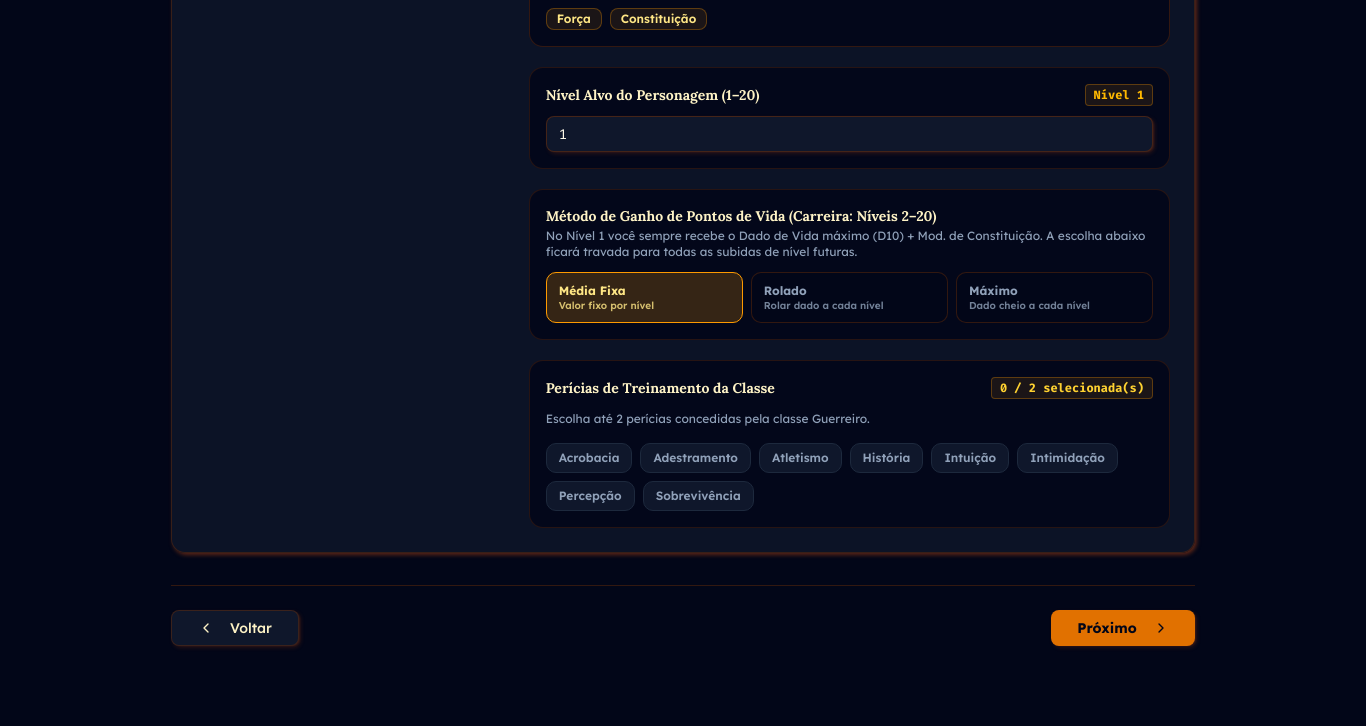
Test: TP-01: 6-Step Character Creation Wizard › renders 6 steps sequentially, handles Point Buy, Standard Array, and 4d6kh3 roll assignment, and submits POST /api/characters
Earlier steps of the test are not shown.
Later steps or results of the test are not shown.
(page scrolled)
Click the button "Próximo" at (1123, 628), box [1051,610,1195,646]
(page scrolled)
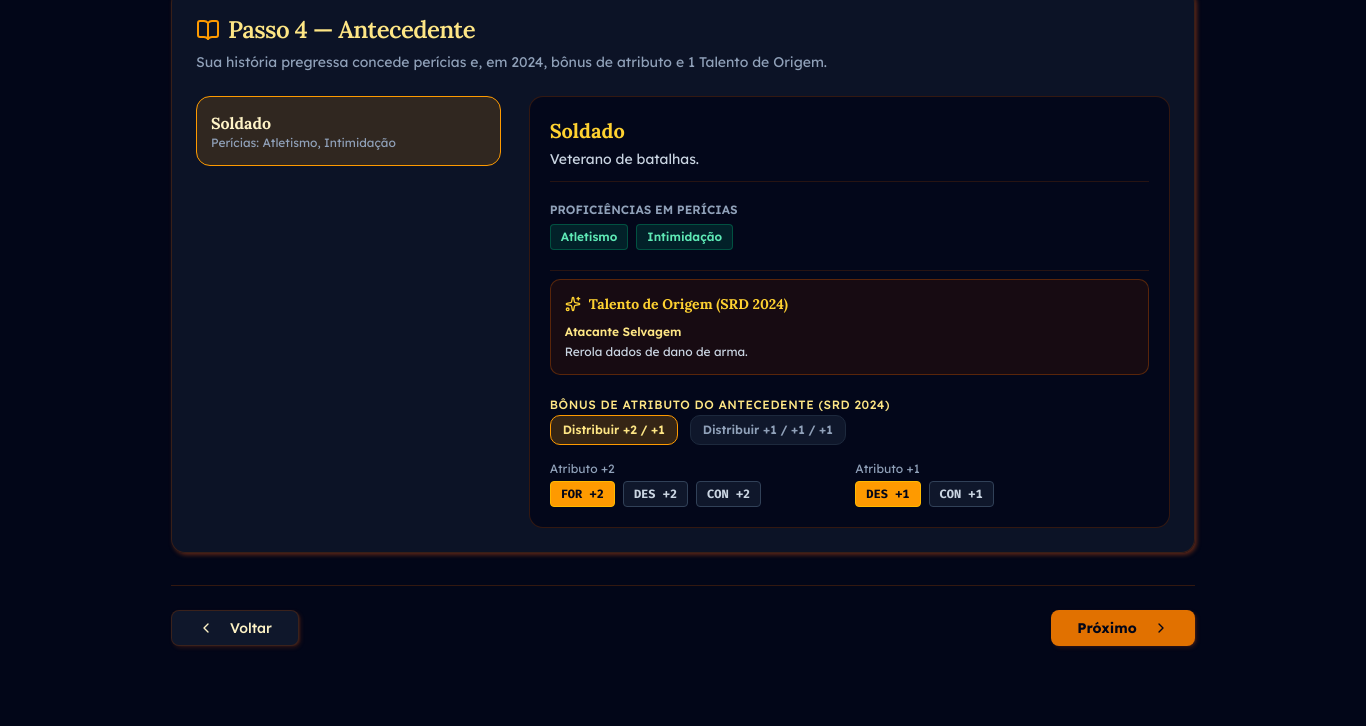
Expected: the text "Passo 4 — Antecedente" is shown, [196,14,475,45]
Click the button "Próximo" at (1123, 628), box [1051,610,1195,646]
(page scrolled)
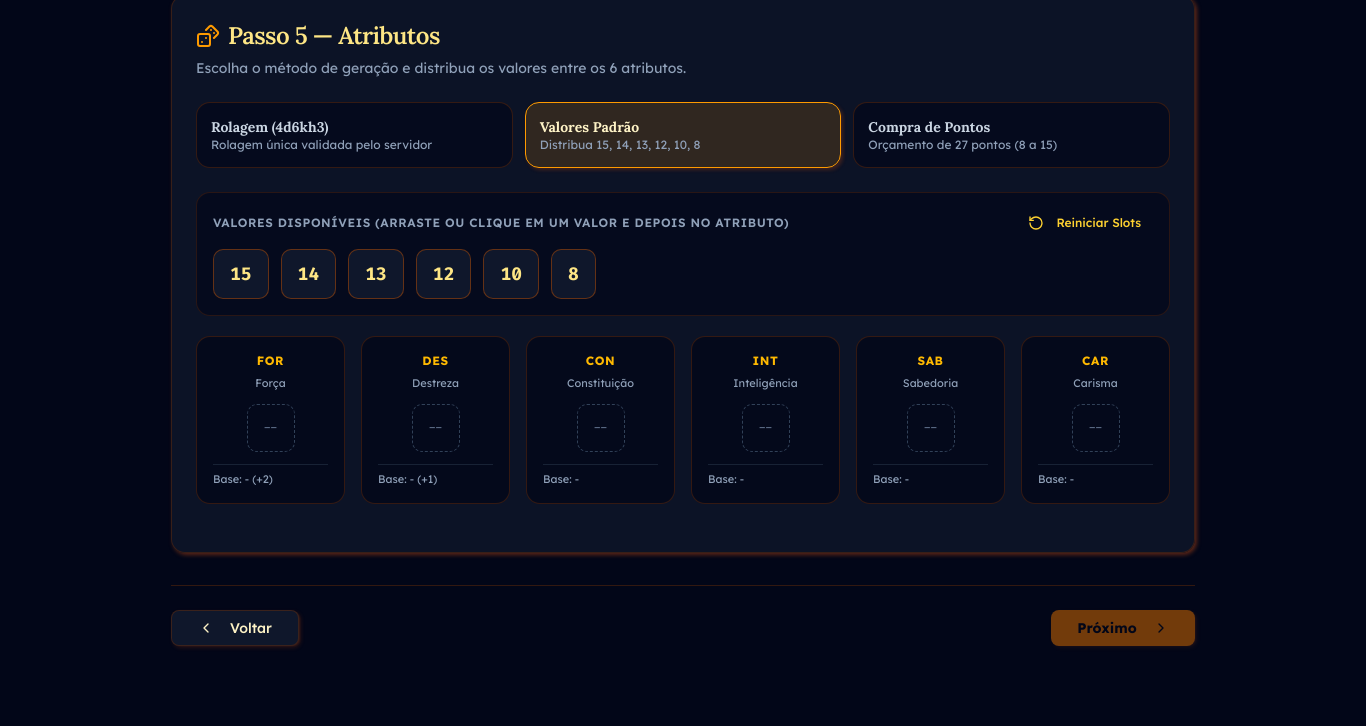
Expected: the text "Passo 5 — Atributos" is shown, [196,20,440,51]
// Test Point Buy 27-point counter
Click the text "Compra de Pontos" at (929, 127), box [868,118,990,136]
(page scrolled)
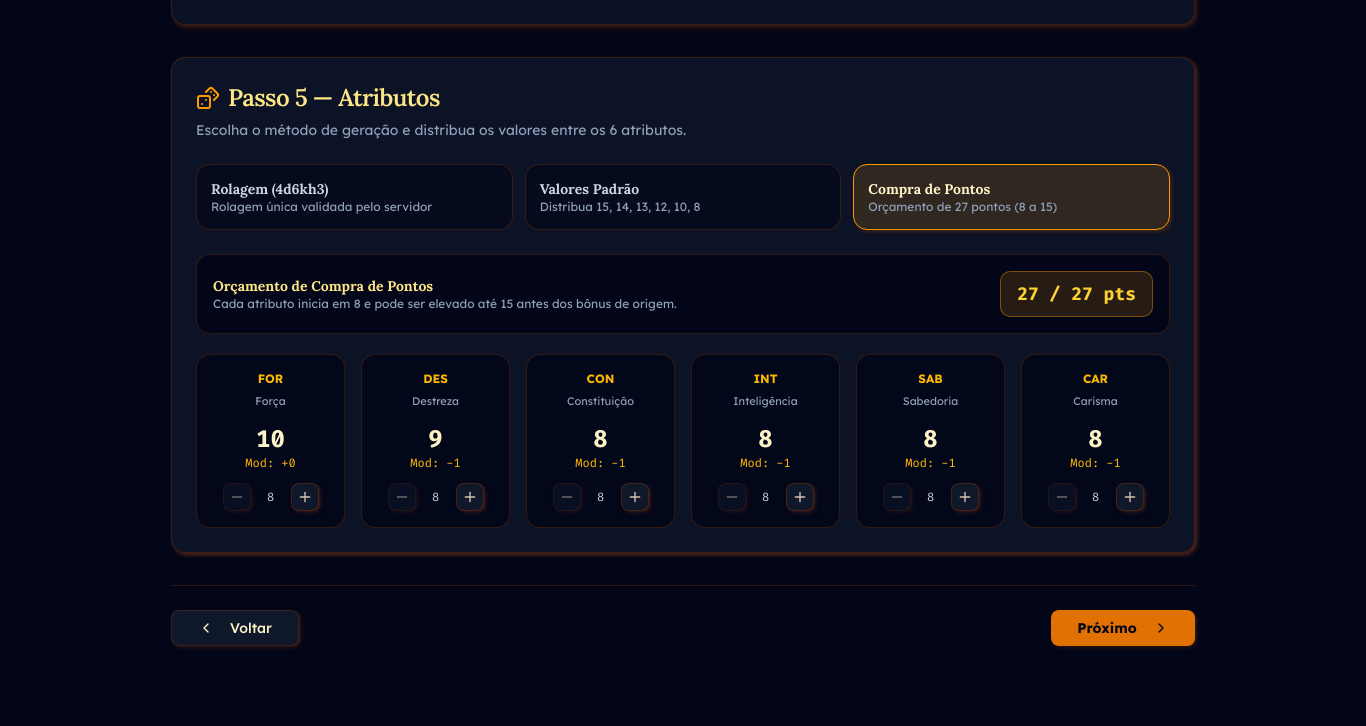
Expected: the text with test id "point-buy-counter" reads "27 / 27 pts", [1000,271,1153,317]
Click the button named "Aumentar FOR" at (304, 497), box [290,483,318,511]
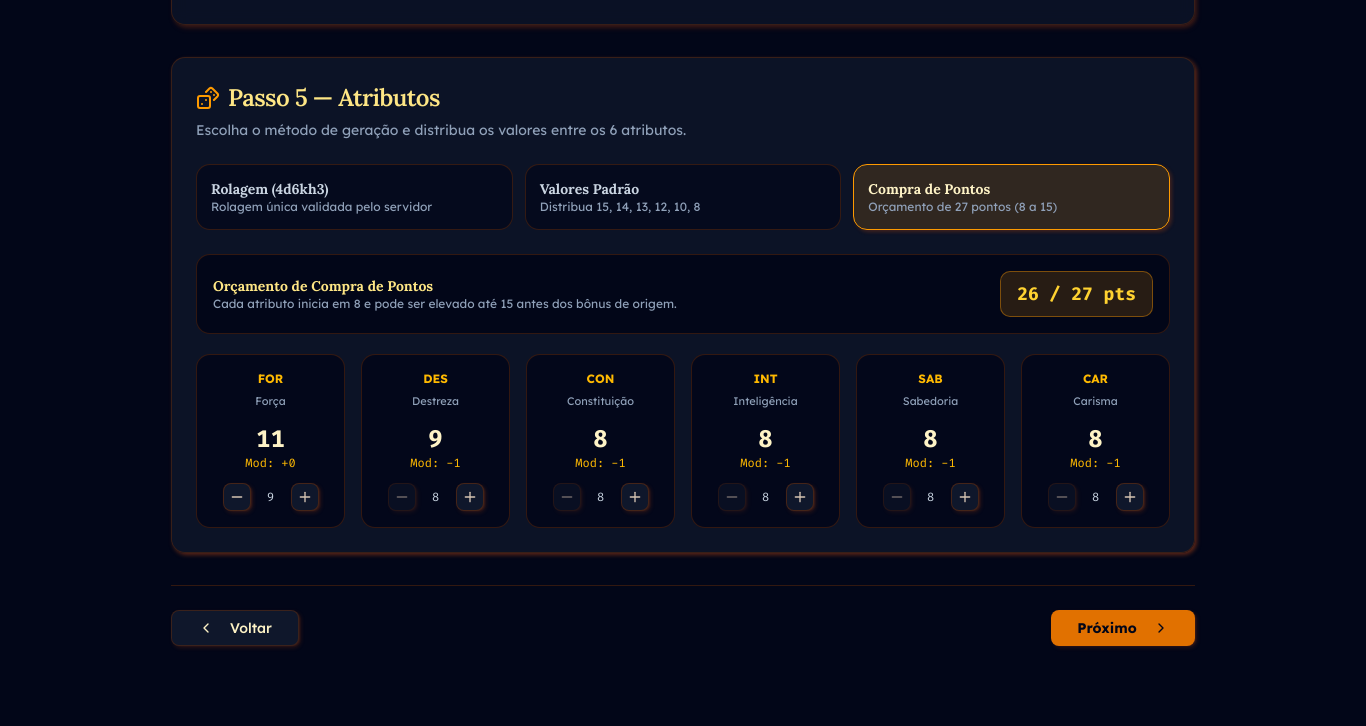
Expected: the text with test id "point-buy-counter" reads "26 / 27 pts", [1000,271,1153,317]
// Switch to Rolagem (4d6kh3) and roll + assign all 6 slots
Click the text "Rolagem (4d6kh3)" at (270, 189), box [211,180,328,198]
(page scrolled)
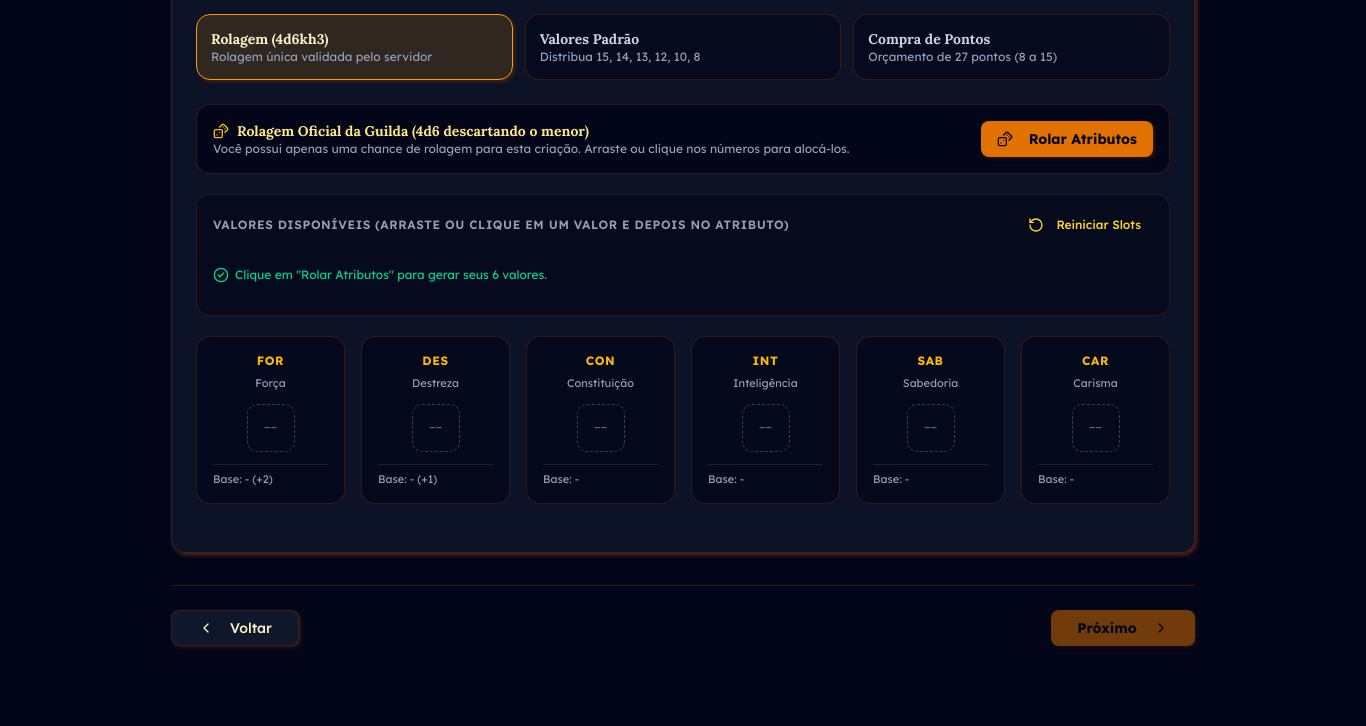
Click the button "Rolar Atributos" at (1067, 139), box [981,121,1153,157]
(page scrolled)
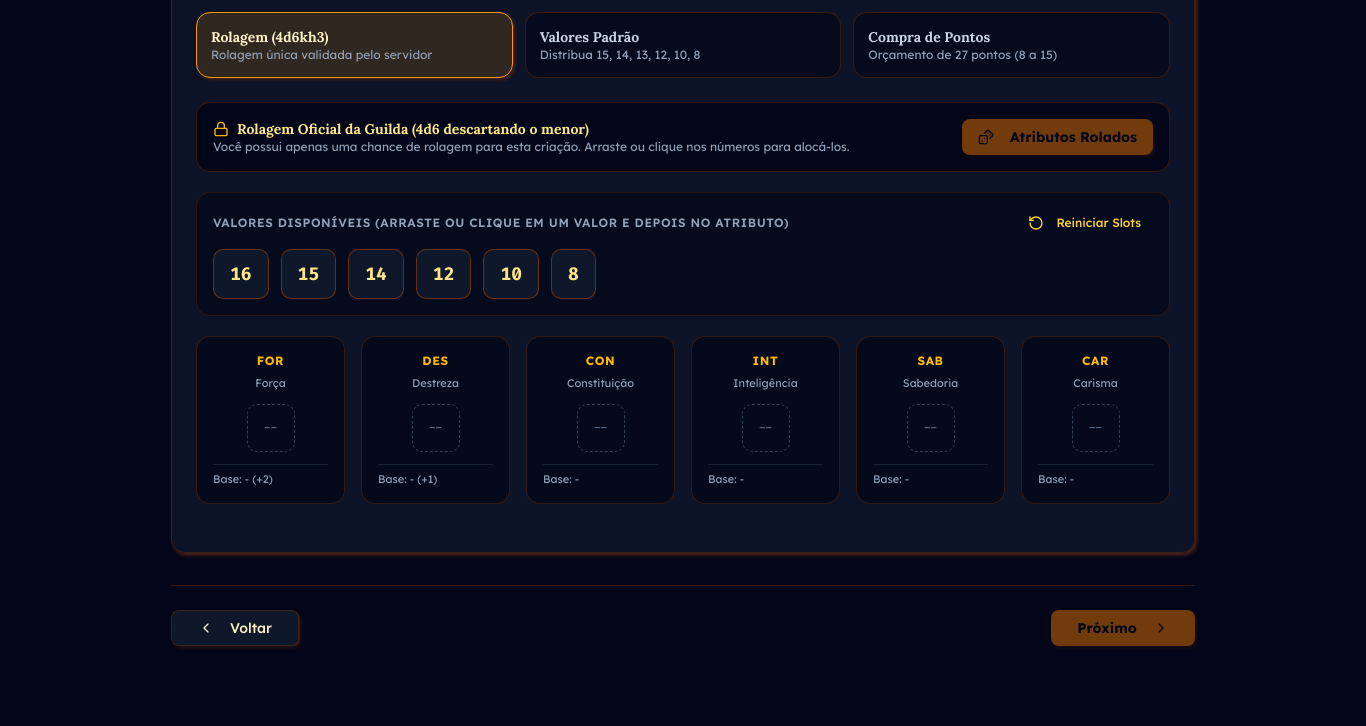
Expected: the button with test id "score-chip-roll-0" is shown, [213,249,269,299]
